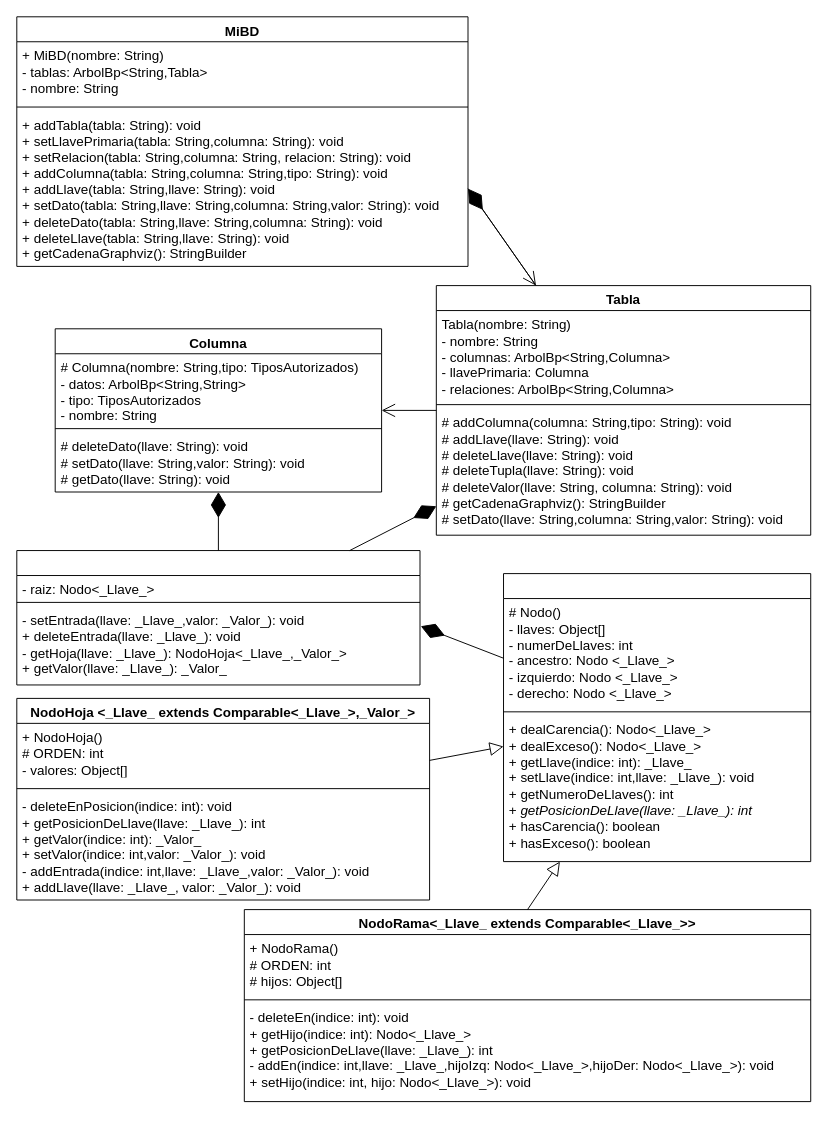
Some shapes in this 828 by 1121 pixel diagram are drawn without their labels. Here are the shapes that lost their labels. From the top down, the box of each, then its label:
(16, 550, 420, 685): ArbolBp<_Llave_ extends Comparable<_Llave_>, _Valor_>
(503, 573, 811, 862): Nodo <_Llave_ extends Comparable<_Llave_>>
